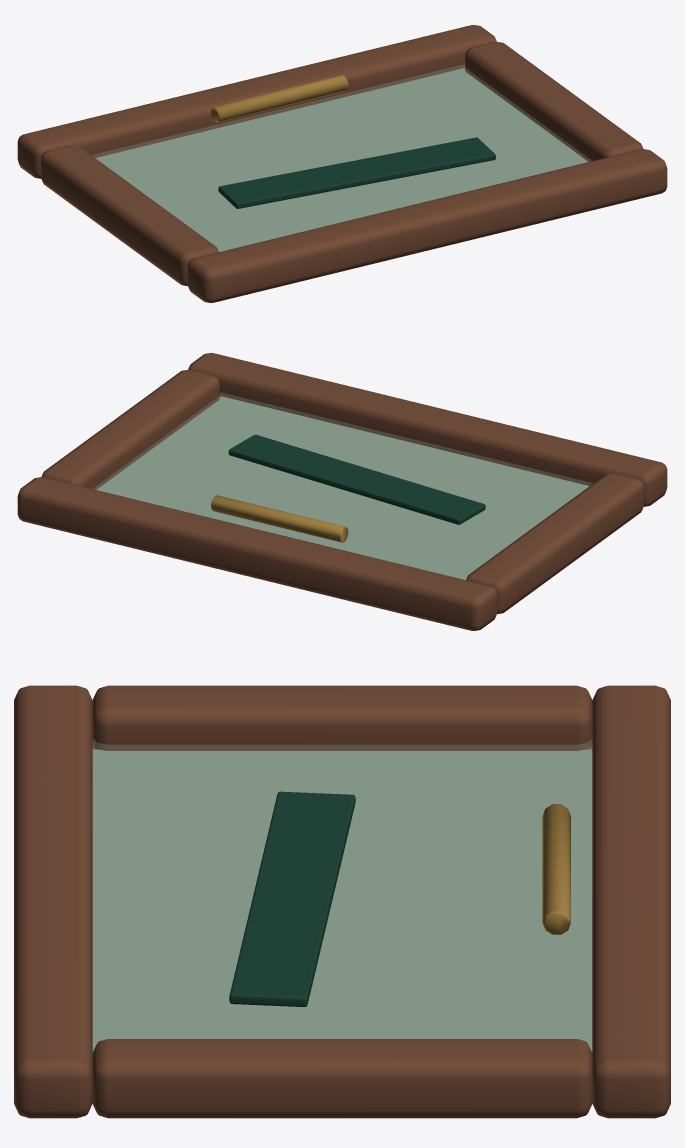
Rendered from pine_hills_fallen_frame_v1.glb.
3 views of the same model, one above another, from view 1: azimuth 30°, elevation 25°; view 2: azimuth 150°, elevation 25°; view 3: azimuth 270°, elevation 25° (orthographic). The views are drawn at different scales.
Visible parts, largest first — view 1: MESH_FallenFrameGlass, MESH_FallenFramePhoto, MESH_FallenFrameRailSouth, MESH_FallenFrameRailNorth, MESH_FallenFrameRailWest, MESH_FallenFrameRailEast, MESH_FallenFrameCourseStripe, MESH_FallenFrameHanger; view 2: MESH_FallenFrameGlass, MESH_FallenFramePhoto, MESH_FallenFrameRailNorth, MESH_FallenFrameRailSouth, MESH_FallenFrameRailWest, MESH_FallenFrameRailEast, MESH_FallenFrameCourseStripe, MESH_FallenFrameHanger; view 3: MESH_FallenFrameGlass, MESH_FallenFramePhoto, MESH_FallenFrameRailEast, MESH_FallenFrameRailNorth, MESH_FallenFrameRailSouth, MESH_FallenFrameRailWest, MESH_FallenFrameCourseStripe, MESH_FallenFrameHanger.
Part boxes in pixels (x1,y1,x2,y2): MESH_FallenFrameGlass: [92, 64, 591, 251]; MESH_FallenFramePhoto: [95, 68, 588, 251]; MESH_FallenFrameRailSouth: [187, 149, 667, 302]; MESH_FallenFrameRailNorth: [17, 25, 496, 178]; MESH_FallenFrameRailWest: [40, 145, 218, 285]; MESH_FallenFrameRailEast: [465, 42, 643, 161]; MESH_FallenFrameCourseStripe: [218, 137, 495, 208]; MESH_FallenFrameHanger: [211, 75, 348, 122]; MESH_FallenFrameGlass: [93, 392, 592, 579]; MESH_FallenFramePhoto: [96, 396, 589, 579]; MESH_FallenFrameRailNorth: [17, 477, 497, 630]; MESH_FallenFrameRailSouth: [188, 353, 667, 506]; MESH_FallenFrameRailWest: [466, 473, 644, 613]; MESH_FallenFrameRailEast: [41, 370, 219, 489]; MESH_FallenFrameCourseStripe: [228, 434, 485, 524]; MESH_FallenFrameHanger: [211, 495, 348, 542]; MESH_FallenFrameGlass: [93, 739, 591, 1050]; MESH_FallenFramePhoto: [92, 749, 592, 1052]; MESH_FallenFrameRailEast: [92, 1039, 592, 1118]; MESH_FallenFrameRailNorth: [592, 685, 670, 1118]; MESH_FallenFrameRailSouth: [14, 685, 92, 1118]; MESH_FallenFrameRailWest: [92, 685, 592, 750]; MESH_FallenFrameCourseStripe: [229, 791, 355, 1006]; MESH_FallenFrameHanger: [542, 804, 570, 934].
Bounding box in the file's own units: 0.64 × 0.0645 × 0.46.
